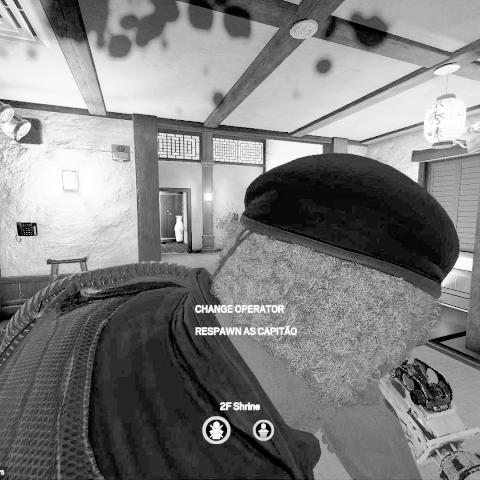Character: (0, 149, 470, 480)
Head: (215, 152, 461, 411)
